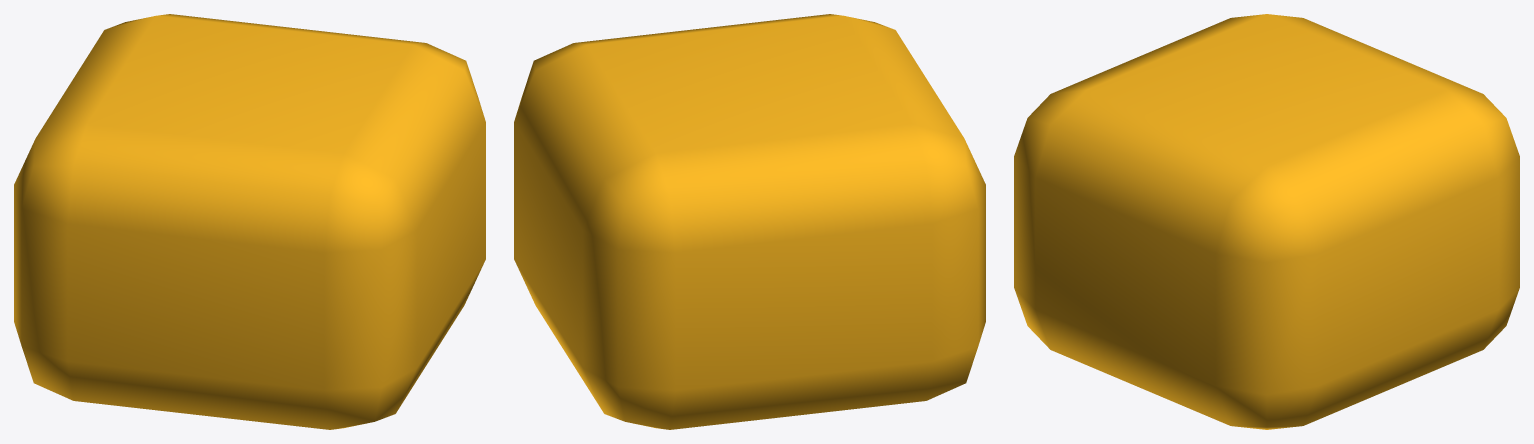
File: Candy_03.fbx
The picture shows the model from 3 angles, left to right: view 1: azimuth 30°, elevation 25°; view 2: azimuth 150°, elevation 25°; view 3: azimuth 270°, elevation 25°; orthographic projection. The views are drawn at different scales.
Parts seen in each view (by area): view 1: Golden_diamond_bonbon; view 2: Golden_diamond_bonbon; view 3: Golden_diamond_bonbon.
Boxes of the visible parts, <box> form: Golden_diamond_bonbon: <box>14,14,485,429</box>; Golden_diamond_bonbon: <box>514,14,985,429</box>; Golden_diamond_bonbon: <box>1014,14,1519,429</box>.
Bounding box in the file's own units: 83.4 × 48 × 83.4.
